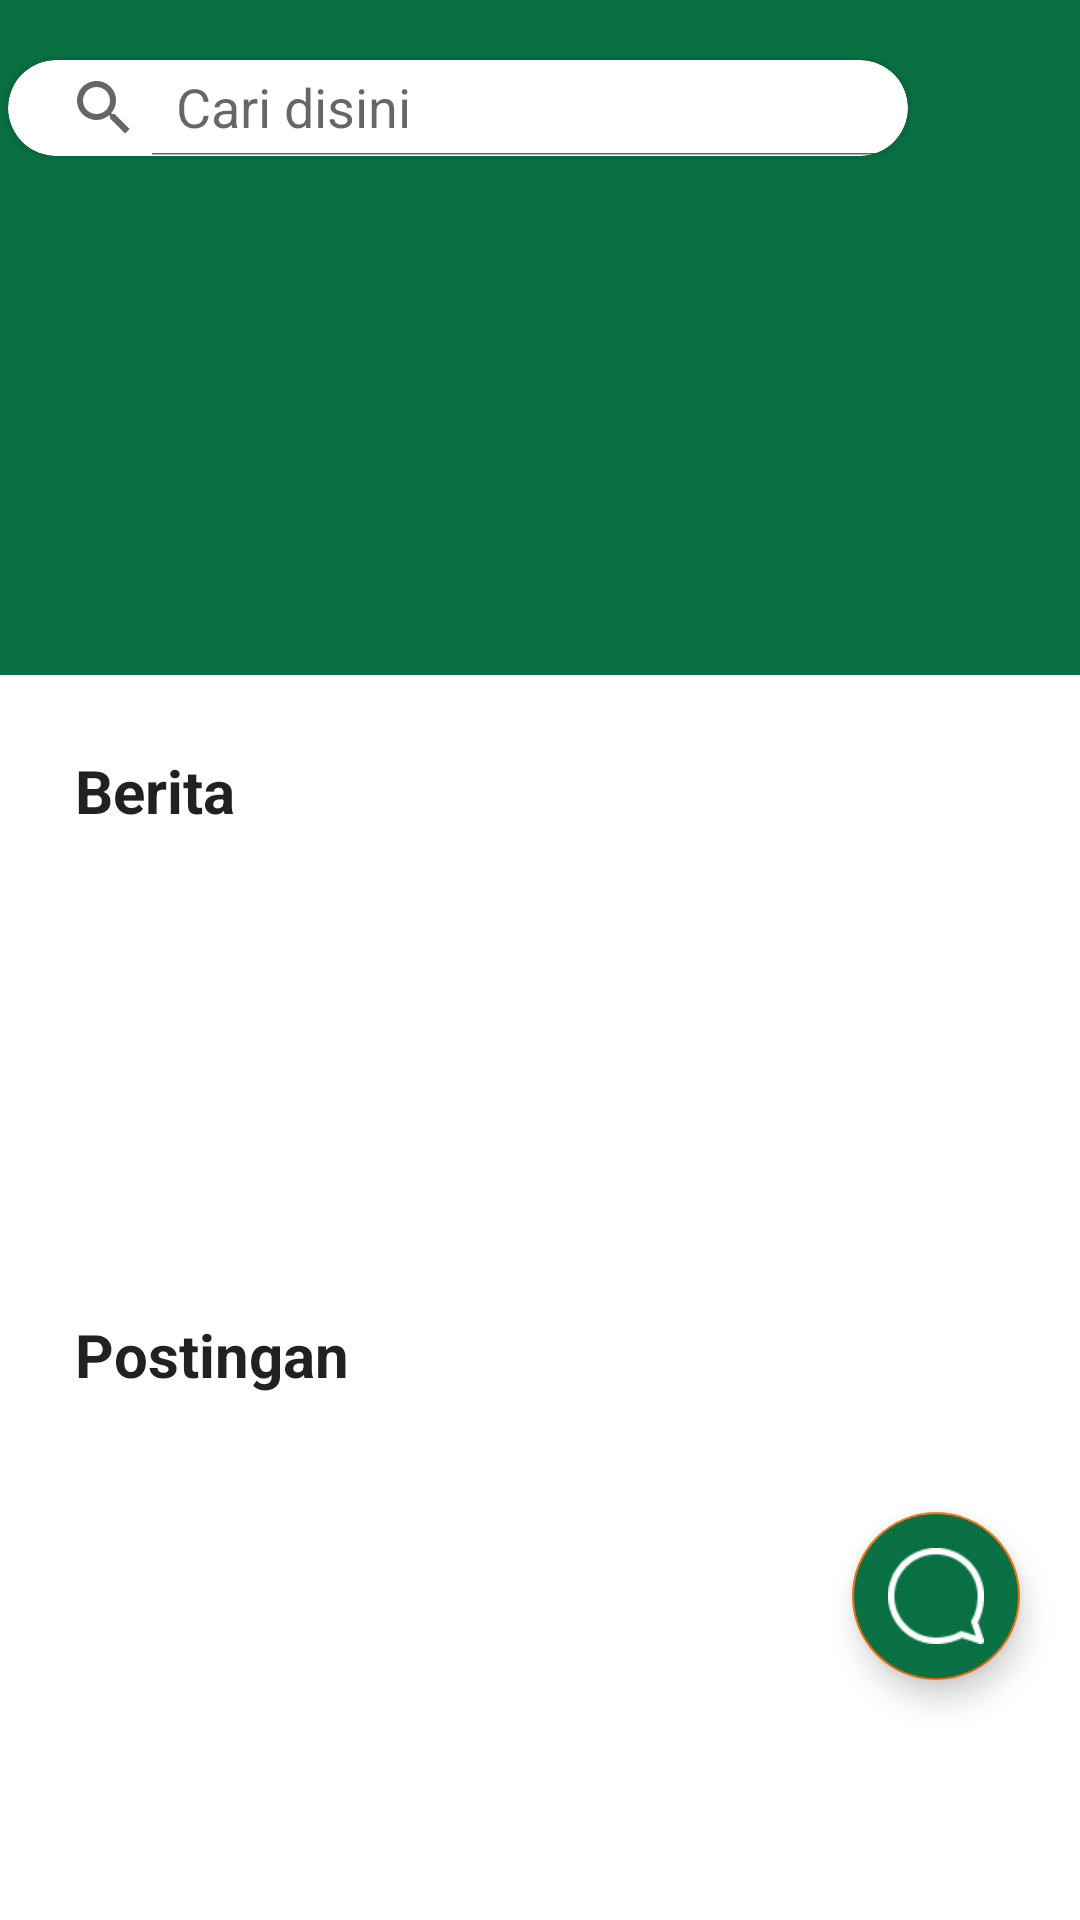

Icon click points for this 1080 x 1920 phone screenshot, format (x=x, y=y):
Chat: (x=936, y=1596)
